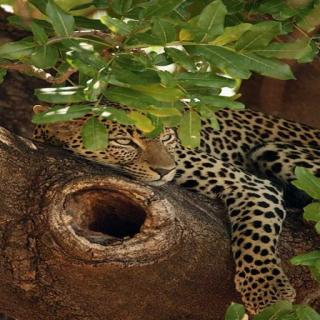Leopard: (45, 74, 317, 282)
